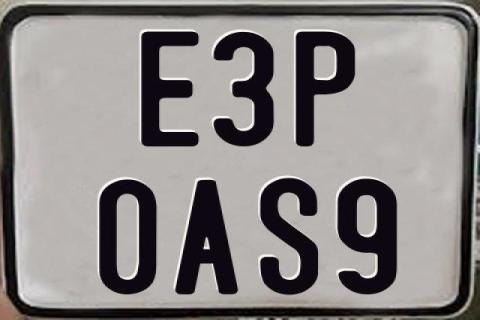0: (337, 179, 399, 299), (98, 179, 162, 295), (214, 32, 276, 151)
A: (174, 179, 239, 297)
E: (138, 31, 198, 147)
P: (296, 30, 358, 146)
S: (258, 175, 317, 295)
